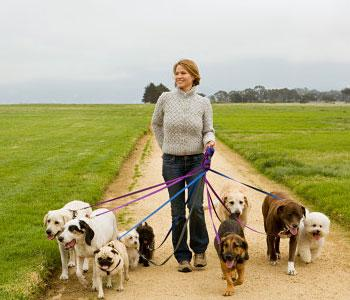person: (153, 60, 215, 270)
